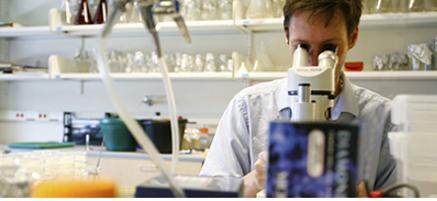person: (200, 1, 408, 198)
